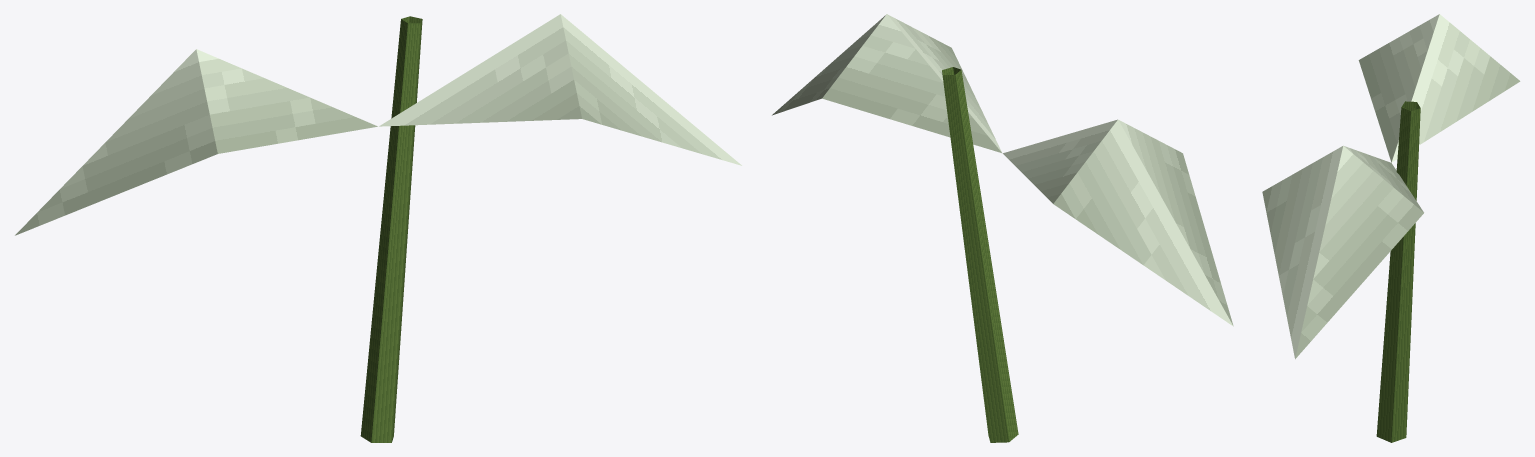
File: bushy_0_lod.obj
3 renders of one model, left to right at view 1: azimuth 30°, elevation 25°; view 2: azimuth 150°, elevation 25°; view 3: azimuth 270°, elevation 25°, orthographic. The views are drawn at different scales.
Parts seen in each view (by area): view 1: plant; view 2: plant; view 3: plant.
Boxes of the visible parts, x1,y1,x2,y2 form: plant: (15, 14, 741, 442); plant: (772, 14, 1233, 442); plant: (1262, 14, 1520, 442).
Size of the model in its own units: 0.2985 by 0.1885 by 0.1238.
